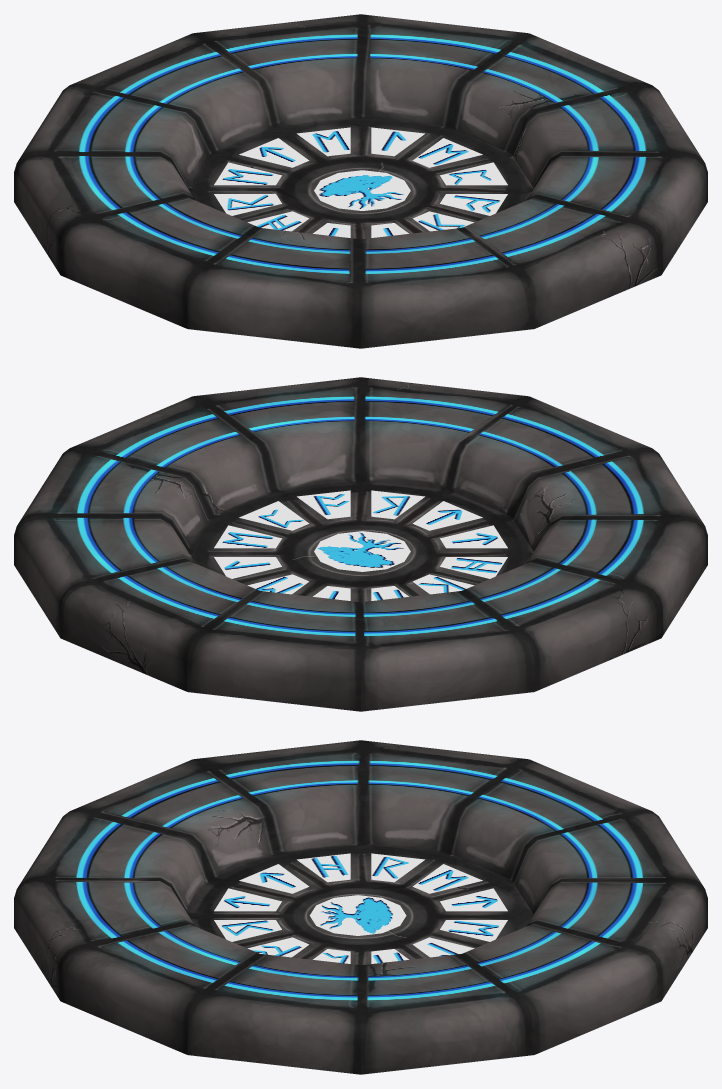
File: Portal_StonePlatform-Blue.fbx
3 renders of one model, top to bottom at view 1: azimuth 30°, elevation 25°; view 2: azimuth 150°, elevation 25°; view 3: azimuth 270°, elevation 25°, orthographic.
Parts seen in each view (by area): view 1: Portal_StonePlatform-Blue, Portal_StonePlatform-Inscryption-Blue; view 2: Portal_StonePlatform-Blue, Portal_StonePlatform-Inscryption-Blue; view 3: Portal_StonePlatform-Blue, Portal_StonePlatform-Inscryption-Blue.
Boxes of the visible parts, x1,y1,x2,y2 form: Portal_StonePlatform-Blue: [14, 14, 707, 348]; Portal_StonePlatform-Inscryption-Blue: [214, 127, 507, 237]; Portal_StonePlatform-Blue: [14, 377, 707, 711]; Portal_StonePlatform-Inscryption-Blue: [214, 490, 507, 600]; Portal_StonePlatform-Blue: [14, 740, 707, 1074]; Portal_StonePlatform-Inscryption-Blue: [214, 853, 507, 963].
Size of the model in its own units: 3784 by 289 by 3784.
Materials: 2 (2 with a texture image).
